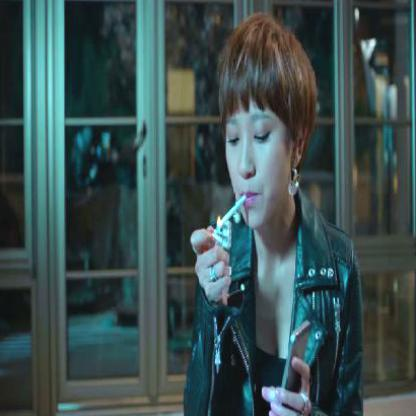cigarette: (219, 193, 246, 228)
person: (192, 18, 362, 415)
